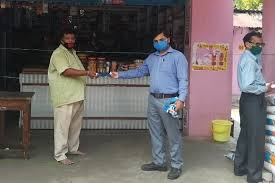mask: (243, 28, 266, 55), (59, 27, 79, 51), (148, 30, 171, 49)
